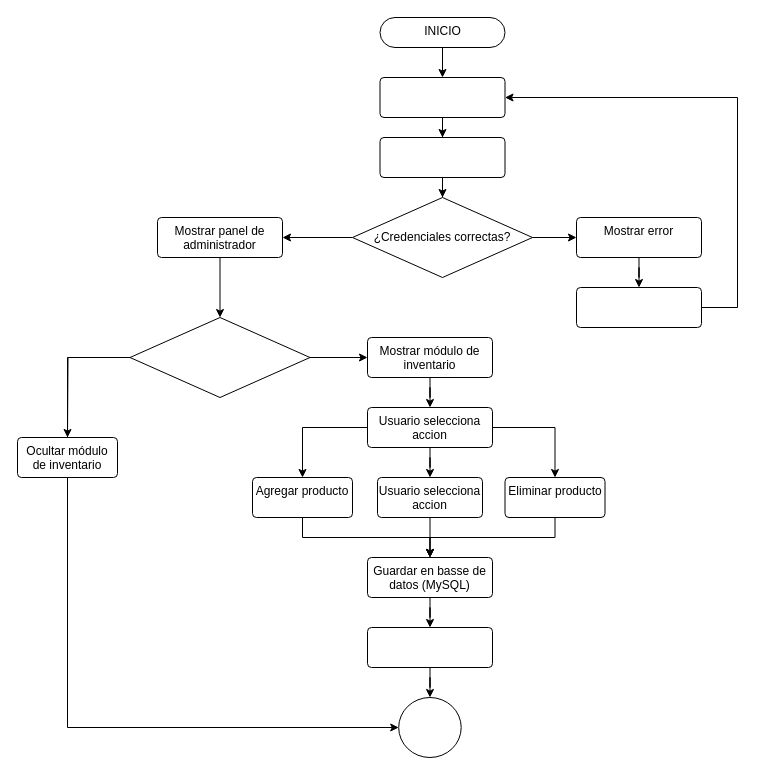
The diagram is 763 pixels wide and 775 high, and some of its shapes have lost their labels. Each missing label, with the centre of its shape:
"FIN" goes at point 429,727.
"Inicia sesion" goes at point 442,97.
"Refleja cambios" goes at point 429,647.
"Reintentar (Registrarse)" goes at point 639,307.
"Sistema valida credenciales" goes at point 442,157.
"¿Usuario tiene negocio?" goes at point 219,357.
